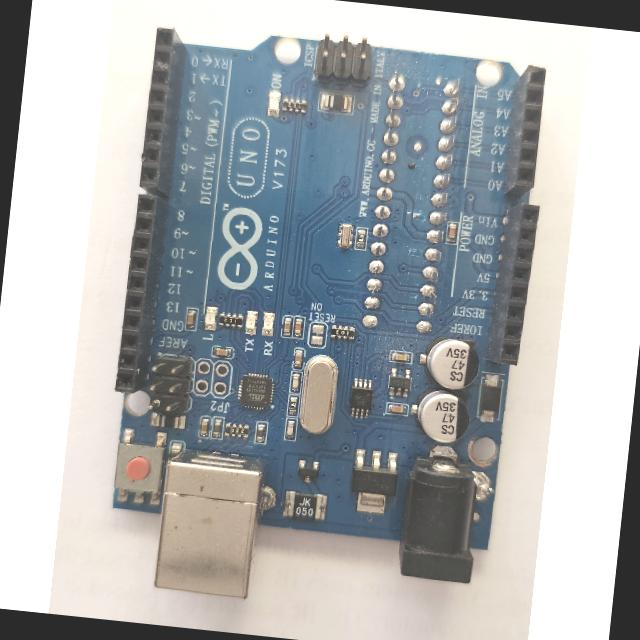missing_atmega: (357, 67, 464, 340)
